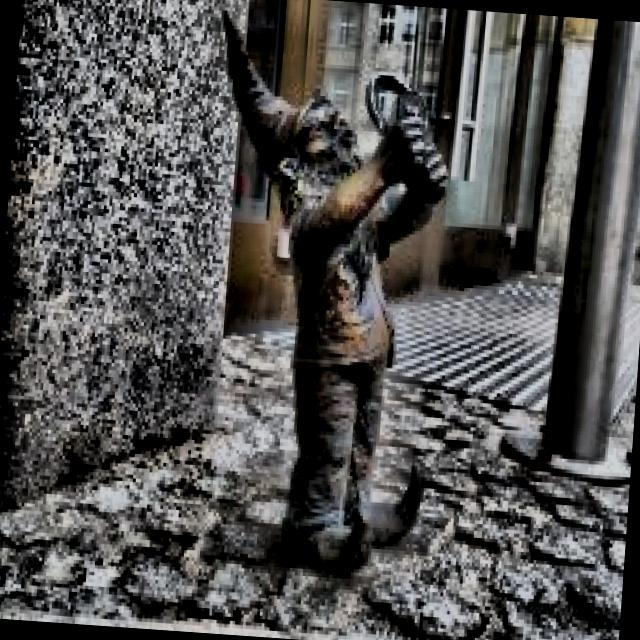Kolekcjoner: (224, 14, 446, 573)
